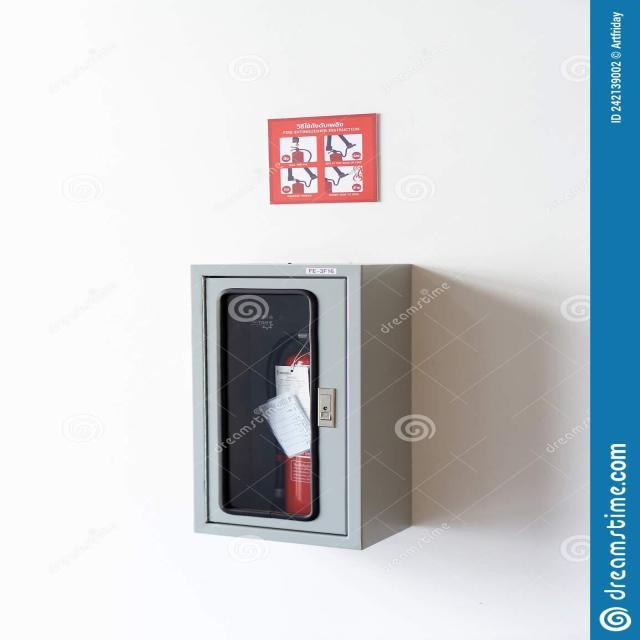fire_extinguisher: (250, 296, 383, 531)
